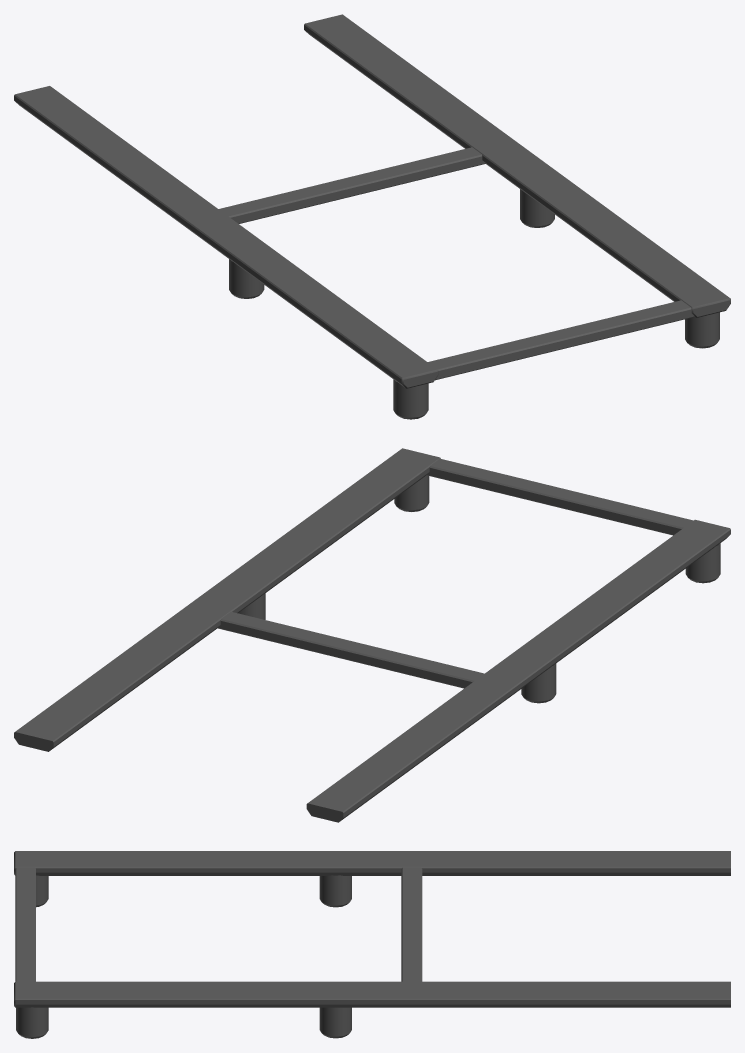
File: nt_2020_glass_sign_shelter_LOD0.obj
3 views of the same model, one above another, from view 1: azimuth 30°, elevation 25°; view 2: azimuth 150°, elevation 25°; view 3: azimuth 270°, elevation 25° (orthographic). The views are drawn at different scales.
Parts seen in each view (by area): view 1: nt_2020_metal_chrome; view 2: nt_2020_metal_chrome; view 3: nt_2020_metal_chrome.
Part boxes in pixels (x1=…): nt_2020_metal_chrome: x1=14, y1=14, x2=730, y2=419; nt_2020_metal_chrome: x1=14, y1=448, x2=730, y2=822; nt_2020_metal_chrome: x1=14, y1=851, x2=730, y2=1038.
Size of the model in its own units: 85.23 by 11.54 by 174.
